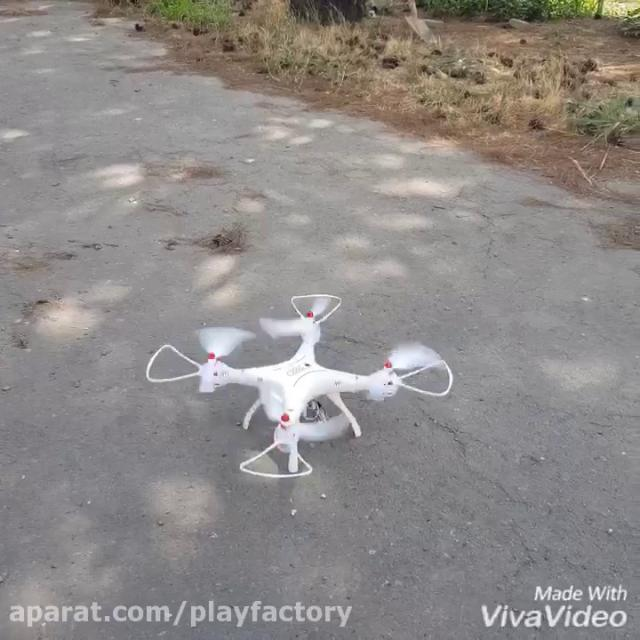drone: (142, 288, 457, 484)
